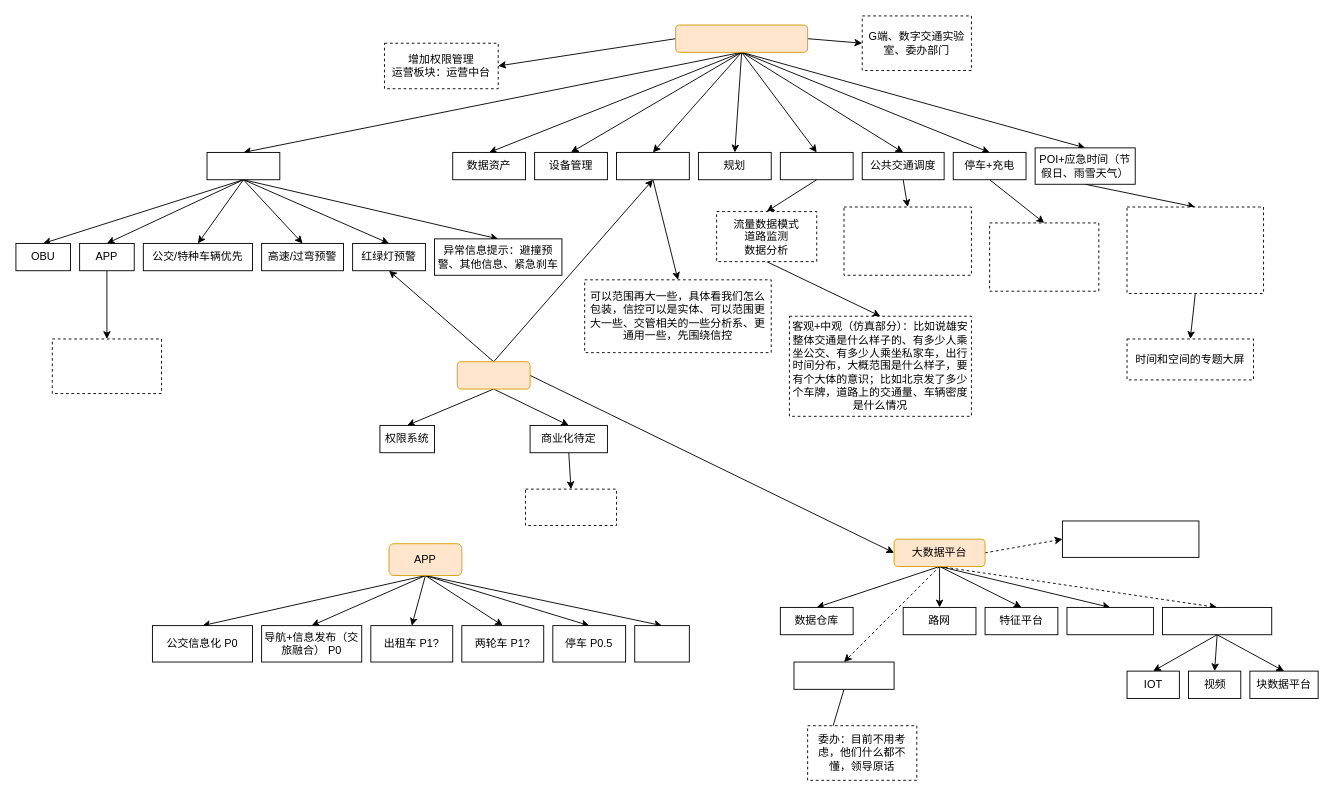
Some shapes in this 1334 by 796 pixel diagram are drawn without their labels. Each missing label, with the box of its shape:
APP是否增加车路协同页面: (51, 338, 162, 394)
交管/信控: (616, 152, 689, 180)
充电 P1: (634, 625, 689, 662)
发布+开放平台: (1066, 607, 1153, 635)
可获取的数据资源: (793, 661, 894, 689)
开个公司、搞个系统等: (525, 488, 617, 526)
总控概览：大屏+可视化: (675, 24, 808, 52)
枢纽：交通服务设施、关键场合、CBD、商业区等展示周围环境的具体情况: (989, 222, 1099, 291)
标准化：对内、对外等: (1062, 520, 1199, 557)
监测: (779, 152, 853, 180)
调度、运营效率、上车率，需要从第三方获得数据；这个需要沟通，能否拿到相关数据，目前第一期基本拿不到: (843, 206, 971, 275)
车路协同: (206, 152, 280, 180)
运营中台: (456, 361, 530, 389)
重点的空间和时间：节假日、雨雪天、灾害天气等做一些场景； 重点区域：枢纽 、城镇、集会地点、重点需要关注的点: (1126, 206, 1264, 293)
需要考虑的相关平台: (1162, 607, 1272, 635)
